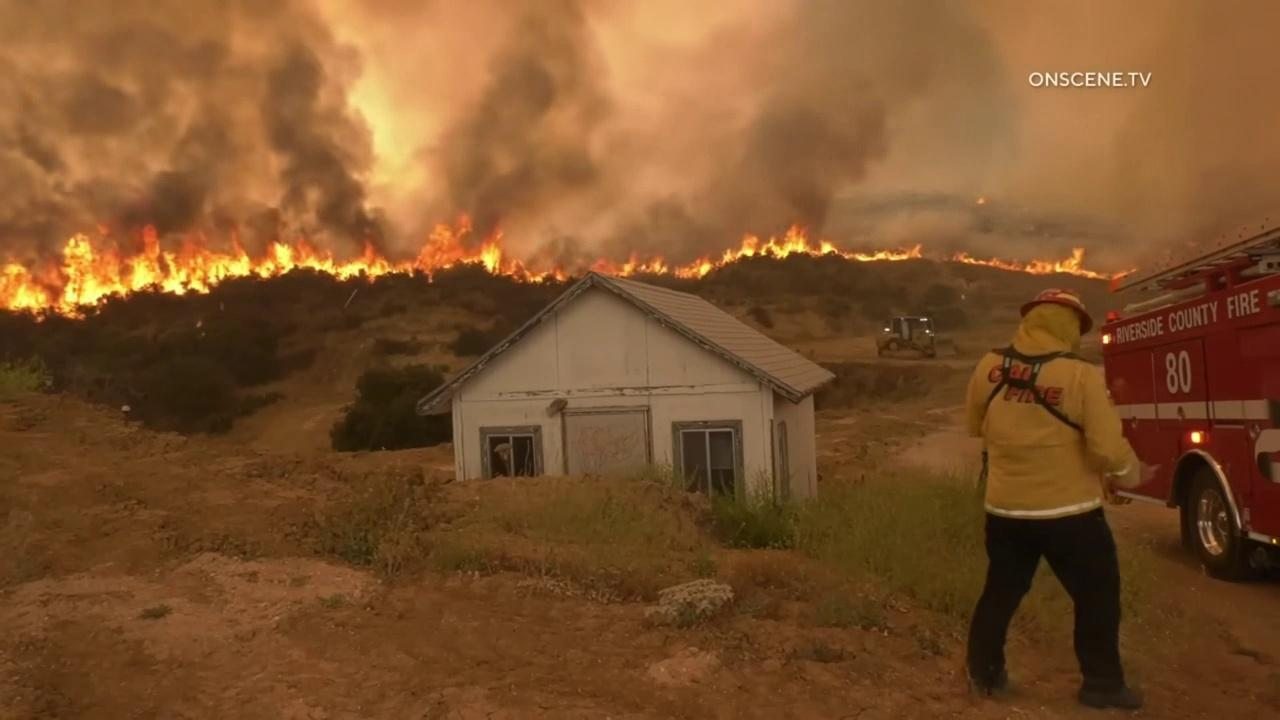fire: (0, 208, 570, 324), (586, 220, 924, 279), (952, 246, 1110, 280), (975, 197, 985, 205), (196, 320, 203, 329)
smoke: (0, 0, 1280, 272)
